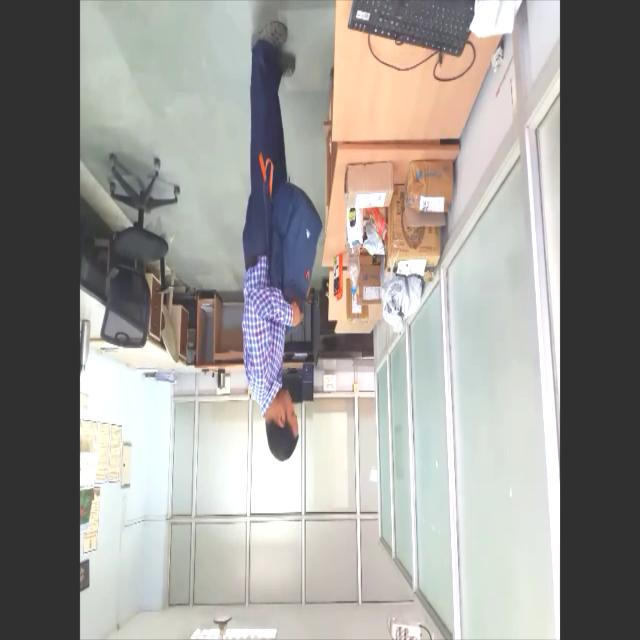shoplifting: (235, 0, 323, 464)
